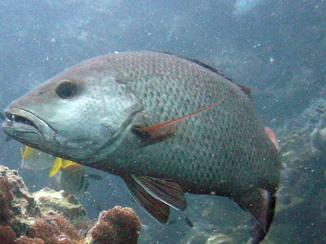Lutjanidae -Snappers-: (0, 45, 287, 244)
